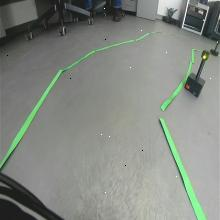green: (200, 49, 210, 61)
